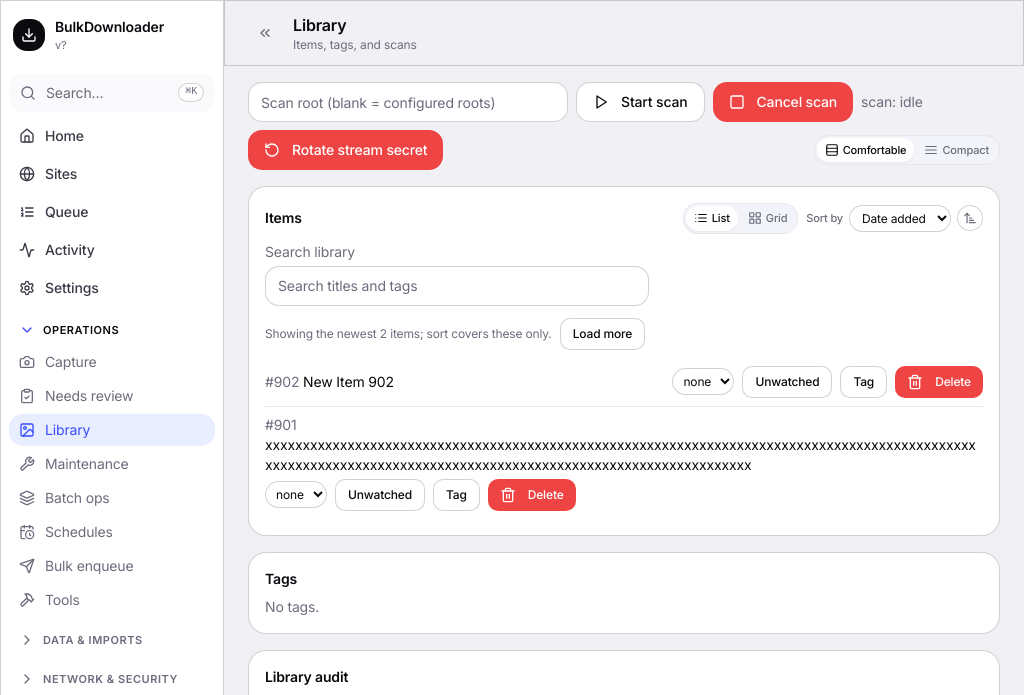
sltm-fix Library: items beyond the first page › F1 says the list is partial and Load more appends the next page
This screenshot has width=1024, height=695.
Expected: the button "New Item 902" is shown, [303,372,394,392]
Expected: the text "Showing the newest 2 items; sort covers these only." is shown, [265,326,552,342]
Click the button "Load more".
click(602, 334)  # box [560,318,645,350]
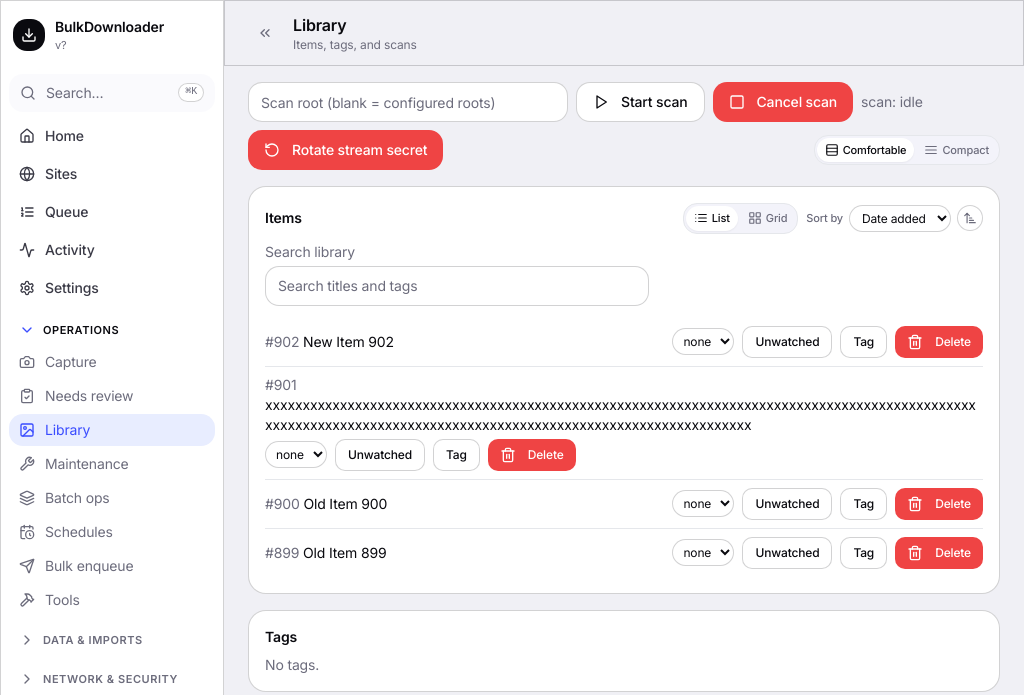
Expected: the button "Old Item 900" is shown, [303,494,387,514]
Expected: the button "Load more" is gone
